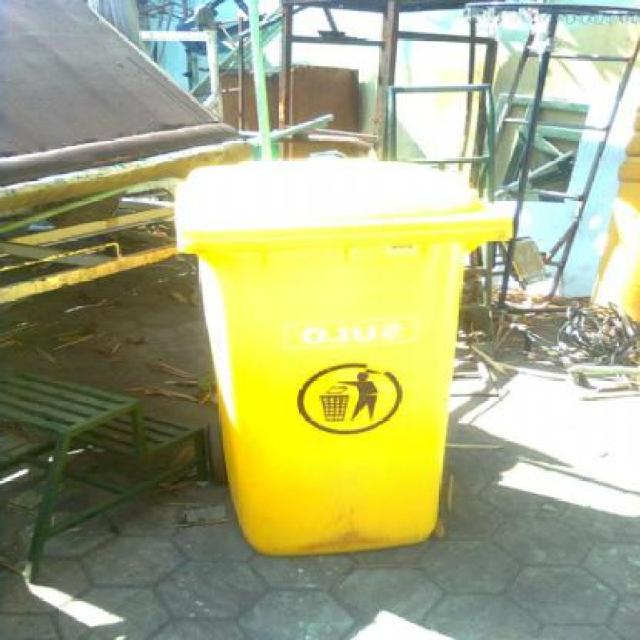garbage container: (155, 155, 507, 580)
